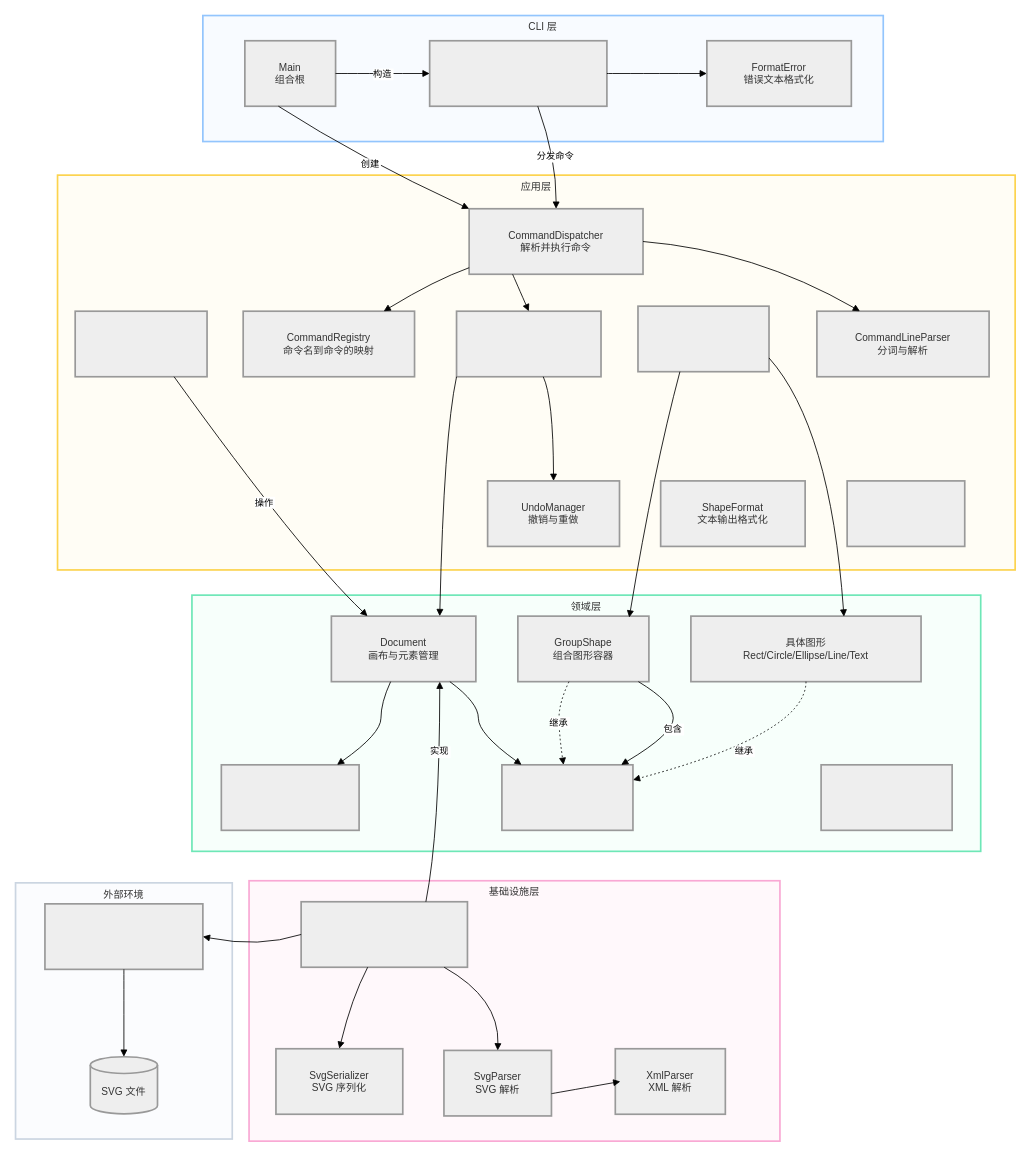
Image size: 1030x1156. Some labels were removed from this diagram. The centre of each missing label's shape, as x and y in pixels:
"AppErrors 应用层错误" belongs at point 905,513.
"Commands 19个命令实现" belongs at point 140,343.
"DomainErrors 领域错误" belongs at point 886,797.
"EditorSession 当前文档与路径" belongs at point 528,343.
"Node.js Runtime 文件系统与控制台" belongs at point 123,936.
"Repl REPL 循环与错误隔离" belongs at point 517,73.
"Shape 图形抽象基类" belongs at point 567,797.
"ShapeFactory 图形创建" belongs at point 703,338.
"ShapeLocation 位置信息" belongs at point 290,797.
"SvgDocumentIo DocumentIo 适配器" belongs at point 384,934.
